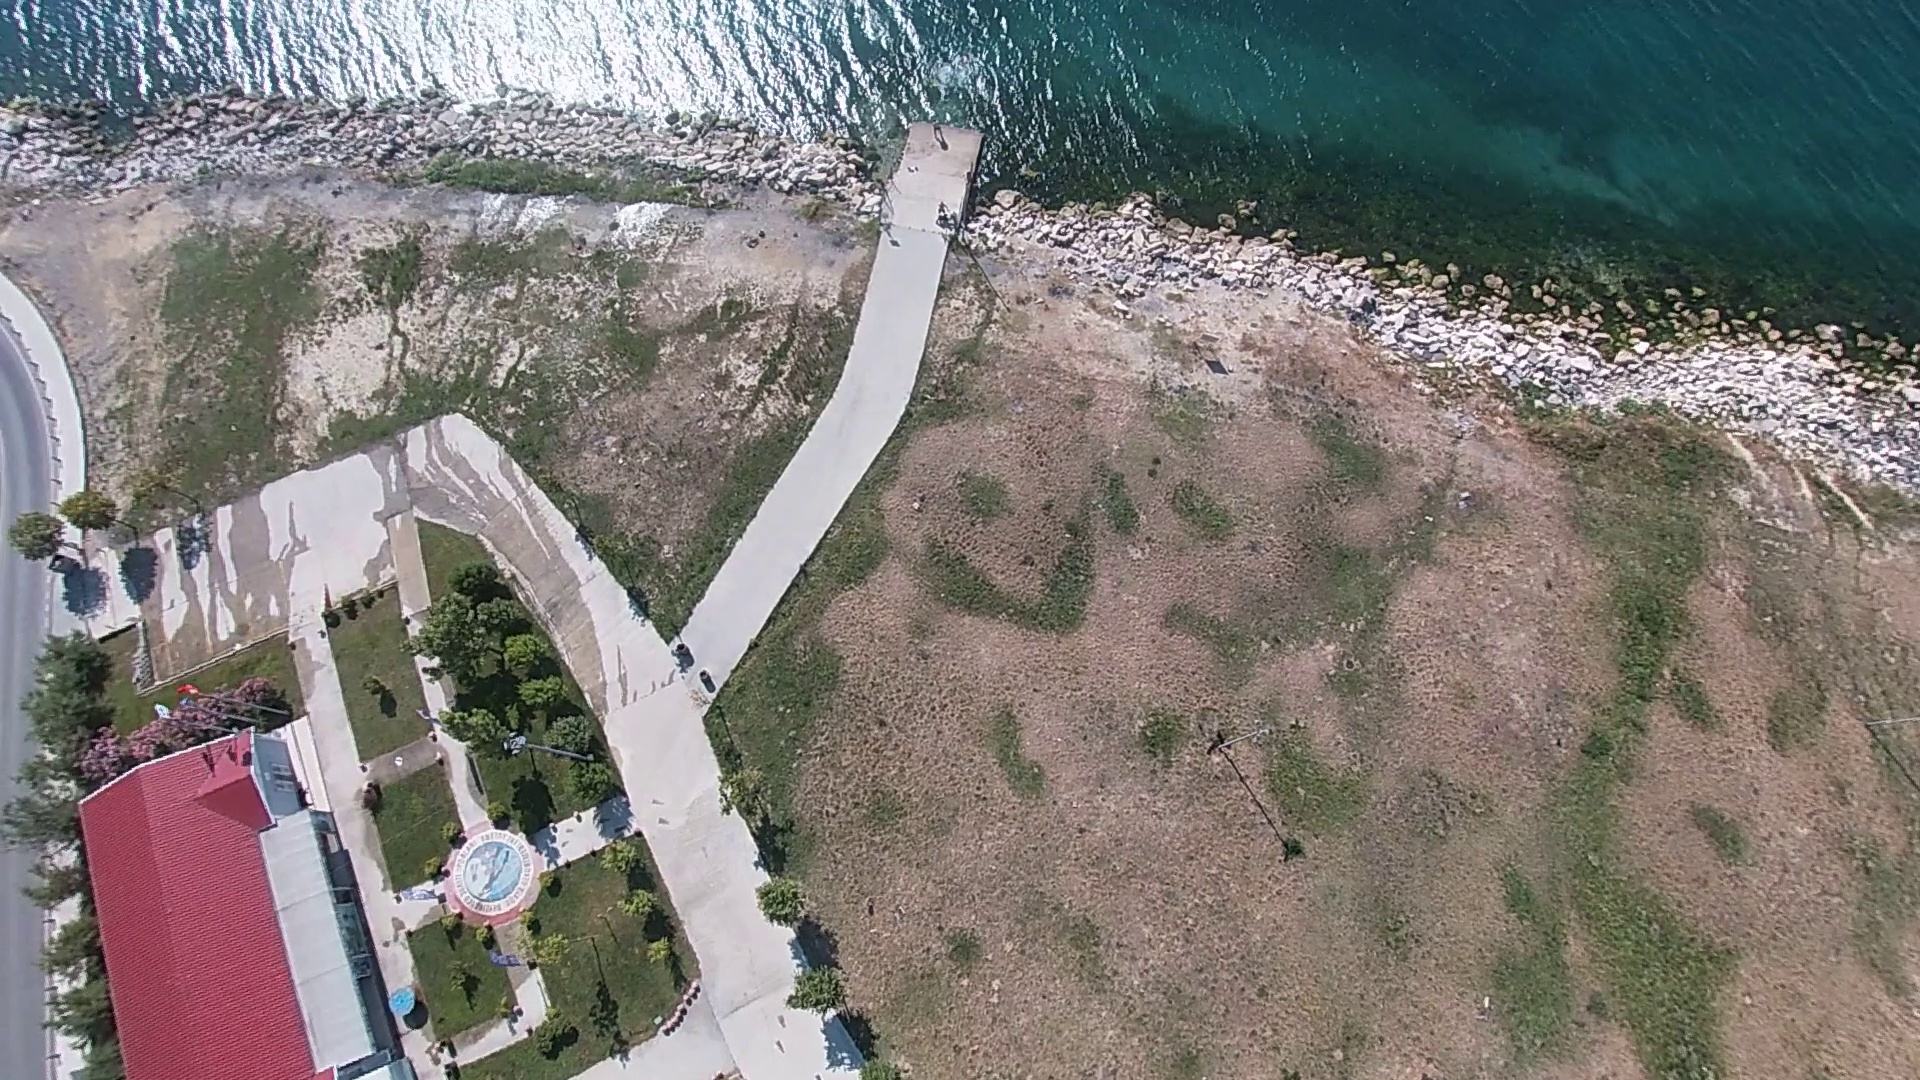insan: (929, 112, 956, 141), (935, 201, 956, 222)
